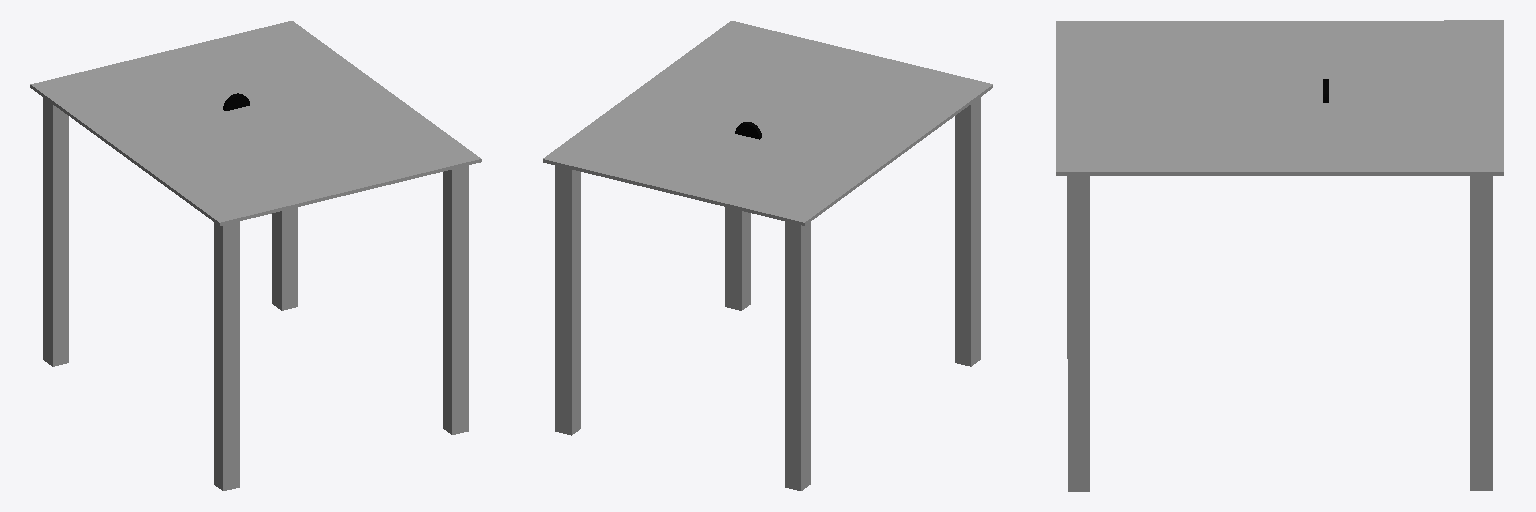
The robot description file, URDF, robot "ur5e":
<?xml version="1.0" encoding="utf-8"?>
<!-- =================================================================================== -->
<!-- |    This document was autogenerated by xacro from gripper_only.urdf.xacro        | -->
<!-- |    EDITING THIS FILE BY HAND IS NOT RECOMMENDED                                 | -->
<!-- =================================================================================== -->
<robot name="ur5e">
  <gazebo>
    <plugin filename="libgazebo_ros_control.so" name="ros_control">
      <!--robotNamespace>/</robotNamespace-->
      <!--robotSimType>gazebo_ros_control/DefaultRobotHWSim</robotSimType-->
    </plugin>
    <!--
    <plugin name="gazebo_ros_power_monitor_controller" filename="libgazebo_ros_power_monitor.so">
      <alwaysOn>true</alwaysOn>
      <updateRate>1.0</updateRate>
      <timeout>5</timeout>
      <powerStateTopic>power_state</powerStateTopic>
      <powerStateRate>10.0</powerStateRate>
      <fullChargeCapacity>87.78</fullChargeCapacity>     
      <dischargeRate>-474</dischargeRate>
      <chargeRate>525</chargeRate>
      <dischargeVoltage>15.52</dischargeVoltage>
      <chargeVoltage>16.41</chargeVoltage>
    </plugin>
-->
  </gazebo>
  <link name="world"/>
  <!-- Adding table to the world -->
  <link name="table">
    <origin rpy="0 0 0" xyz="0.0 0.0 0.0"/>
    <inertial>
      <mass value="5"/>
      <origin xyz="0 0 0"/>
      <inertia ixx="1" ixy="0.0" ixz="0.0" iyy="1" iyz="0.0" izz="1"/>
    </inertial>
    <visual>
      <geometry>
        <mesh filename="package://ur_e_description/meshes/table/visual/table.dae"/>
      </geometry>
    </visual>
    <collision>
      <geometry>
        <mesh filename="package://ur_e_description/meshes/table/collision/table.obj"/>
      </geometry>
    </collision>
  </link>
  <joint name="world_joint" type="fixed">
    <parent link="world"/>
    <child link="table"/>
    <origin rpy="0.0 0.0 -1.57" xyz="0.0 0.0 -0.005"/>
  </joint>
  <!-- fixing robot base link to the table -->
  <link name="tool0"/>
  <joint name="world-tool0_floating_joint" type="floating">
    <origin rpy="-1.57079632679 0 0" xyz="0 0.1 0"/>
    <parent link="world"/>
    <child link="tool0"/>
  </joint>

  <joint name="robotiq_ur_coupler_coupler_joint" type="fixed">
    <!-- total height of coupler, minus the depth of robot end-effector shape and the gripper small depth-->
    <origin rpy="0 0 0" xyz="0 0 0.0075"/>
    <parent link="tool0"/>
    <child link="robotiq_ur_coupler"/>
  </joint>
  <link name="robotiq_ur_coupler">
    <visual>
      <origin rpy="0 0 0" xyz="0 0 -0.005465"/>
      <geometry>
        <!-- only the visible part of the coupler -->
        <cylinder length="0.0139" radius="0.0375"/>
      </geometry>
      <material name="dark_grey">
        <color rgba="0.05 0.05 0.05 1"/>
      </material>
    </visual>
    <collision>
      <origin rpy="0 0 0" xyz="0 0 0"/>
      <geometry>
        <cylinder length="0.0135" radius="0.0375"/>
      </geometry>
    </collision>
    <inertial>
      <mass value="0.3"/>
      <origin xyz="0 0 0.00695"/>
      <inertia ixx="0.110299" ixy="0" ixz="0" iyy="0.110299" iyz="0" izz="0.2109375"/>
    </inertial>
  </link>
  <!-- the ee link of gripper -->
  <joint name="robotiq_ur_coupler_robotiq_2f_85_ee_joint" type="fixed">
    <origin rpy="0 0 0" xyz="0 0 0.1493"/>
    <parent link="robotiq_2f_85_base"/>
    <child link="robotiq_2f_85_ee_link"/>
  </joint>
  <link name="robotiq_2f_85_ee_link"/>
  <!-- base -->
  <joint name="robotiq_ur_coupler_robotiq_2f_85_base_joint" type="fixed">
    <origin rpy="0 0 1.57079632679" xyz="0 0 0"/>
    <parent link="robotiq_ur_coupler"/>
    <child link="robotiq_2f_85_base"/>
  </joint>
  <link name="robotiq_2f_85_base">
    <inertial>
      <mass value="0.5"/>
      <origin xyz="0 0 0.0075"/>
      <inertia ixx="0.284375" ixy="0" ixz="0" iyy="0.284375" iyz="0" izz="0.4"/>
    </inertial>
    <visual>
      <origin rpy="0 -1.5708 0" xyz="0 0 0"/>
      <geometry>
        <mesh filename="package://robotiq_2f_85_gripper_visualization/meshes/visual/base.dae"/>
      </geometry>
    </visual>
    <collision>
      <origin rpy="0 0 0" xyz="0 0 0.015"/>
      <geometry>
        <cylinder length="0.045" radius="0.04"/>
      </geometry>
    </collision>
    <collision>
      <origin rpy="0 0 0" xyz="0 0 0.06"/>
      <geometry>
        <box size="0.03 0.03 0.06"/>
      </geometry>
    </collision>
  </link>
  <!-- right finger -->
  <joint name="robotiq_2f_85_right_driver_joint" type="revolute">
    <origin rpy="0 0 0" xyz="0 0.0306011 0.054904"/>
    <parent link="robotiq_2f_85_base"/>
    <child link="robotiq_2f_85_right_driver"/>
    <axis xyz="1 0 0"/>
    <limit effort="60" lower="0.0" upper="0.872664444444" velocity="1.91986177778"/>
  </joint>
  <link name="robotiq_2f_85_right_driver">
    <inertial>
      <mass value="0.1"/>
      <origin rpy="0 0 0" xyz="0 0.02 0"/>
      <inertia ixx="0.0166666666667" ixy="0" ixz="0" iyy="0.00666666666667" iyz="0" izz="0.0166666666667"/>
    </inertial>
    <visual>
      <geometry>
        <mesh filename="package://robotiq_2f_85_gripper_visualization/meshes/visual/driver.dae" scale="0.001 0.001 0.001"/>
      </geometry>
    </visual>
    <collision>
      <origin rpy="-0.1 0 0" xyz="0 0.01 0"/>
      <geometry>
        <box size="0.002 0.004 0.002"/>
      </geometry>
    </collision>
  </link>
  <joint name="robotiq_2f_85_right_coupler_joint" type="fixed">
    <origin rpy="0 0 0" xyz="0 0.0315 -0.0041"/>
    <parent link="robotiq_2f_85_right_driver"/>
    <child link="robotiq_2f_85_right_coupler"/>
  </joint>
  <link name="robotiq_2f_85_right_coupler">
    <inertial>
      <mass value="0.1"/>
      <origin rpy="-1.7 0 0" xyz="0 0.0 0.025"/>
      <inertia ixx="0.0385416666667" ixy="0" ixz="0" iyy="0.0108333333333" iyz="0" izz="0.0427083333333"/>
    </inertial>
    <visual>
      <geometry>
        <mesh filename="package://robotiq_2f_85_gripper_visualization/meshes/visual/coupler.dae" scale="0.001 0.001 0.001"/>
      </geometry>
    </visual>
    <collision>
      <origin rpy="-1.7 0 0" xyz="0 0.0 0.025"/>
      <geometry>
        <box size="0.03 0.065 0.02"/>
      </geometry>
    </collision>
  </link>
  <joint name="robotiq_2f_85_right_follower_joint" type="revolute">
    <origin rpy="0 0 0" xyz="0 0.0061 0.0471"/>
    <parent link="robotiq_2f_85_right_coupler"/>
    <child link="robotiq_2f_85_right_follower"/>
    <axis xyz="1 0 0"/>
    <limit effort="176" lower="-2.96705911111" upper="2.96705911111" velocity="1.91986177778"/>
    <mimic joint="robotiq_2f_85_right_driver_joint" multiplier="-1"/>
  </joint>
  <link name="robotiq_2f_85_right_follower">
    <inertial>
      <mass value="0.1"/>
      <origin xyz="0 -0.018 0.022"/>
      <inertia ixx="0.021075" ixy="0" ixz="0" iyy="0.0225333333333" iyz="0" izz="0.00520833333333"/>
    </inertial>
    <visual>
      <geometry>
        <mesh filename="package://robotiq_2f_85_gripper_visualization/meshes/visual/follower.dae" scale="0.001 0.001 0.001"/>
      </geometry>
    </visual>
    <collision>
      <origin rpy="0 0 0" xyz="0 -0.01 0.022"/>
      <geometry>
        <box size="0.002 0.0015 0.0048"/>
      </geometry>
    </collision>
  </link>
  <joint name="robotiq_2f_85_right_pad_joint" type="revolute">
    <parent link="robotiq_2f_85_right_follower"/>
    <child link="robotiq_2f_85_right_pad"/>
    <axis xyz="0 0 1"/>
    <limit effort="200" lower="0" upper="0" velocity="0"/>
    <mimic joint="robotiq_2f_85_right_driver_joint" multiplier="0"/>
  </joint>
  <link name="robotiq_2f_85_right_pad">
    <inertial>
      <mass value="0.1"/>
      <origin xyz="0 -0.022 0.031"/>
      <inertia ixx="0.0113333333333" ixy="0" ixz="0" iyy="0.0141333333333" iyz="0" izz="0.00386666666667"/>
    </inertial>
    <visual>
      <geometry>
        <mesh filename="package://robotiq_2f_85_gripper_visualization/meshes/visual/pad.dae" scale="0.001 0.001 0.001"/>
      </geometry>
    </visual>
    <collision>
      <origin rpy="0 0 0" xyz="0 -0.022 0.031"/>
      <geometry>
        <box size="0.02 0.008 0.036"/>
      </geometry>
    </collision>
  </link>
  <joint name="robotiq_2f_85_right_spring_link_joint" type="revolute">
    <origin rpy="0 0 0" xyz="0 0.012 0.0614"/>
    <parent link="robotiq_2f_85_base"/>
    <child link="robotiq_2f_85_right_spring_link"/>
    <axis xyz="1 0 0"/>
    <limit effort="176" lower="-2.96705911111" upper="2.96705911111" velocity="1.91986177778"/>
    <mimic joint="robotiq_2f_85_right_driver_joint" multiplier="1"/>
  </joint>
  <link name="robotiq_2f_85_right_spring_link">
    <inertial>
      <mass value="0.1"/>
      <origin rpy="-0.7068 0 0" xyz="0 0.018 0.018"/>
      <inertia ixx="0.0385416666667" ixy="0" ixz="0" iyy="0.0485416666667" iyz="0" izz="0.0166666666667"/>
    </inertial>
    <visual>
      <geometry>
        <mesh filename="package://robotiq_2f_85_gripper_visualization/meshes/visual/spring_link.dae" scale="0.001 0.001 0.001"/>
      </geometry>
    </visual>
    <collision>
      <origin rpy="-0.7068 0 0" xyz="0 0.025 0.015"/>
      <geometry>
        <box size="0.004 0.002 0.0065"/>
      </geometry>
    </collision>
  </link>
  <!-- left finger -->
  <joint name="robotiq_2f_85_left_driver_joint" type="revolute">
    <origin rpy="0 0 3.141592653589793" xyz="0 -0.0306011 0.054904"/>
    <parent link="robotiq_2f_85_base"/>
    <child link="robotiq_2f_85_left_driver"/>
    <axis xyz="1 0 0"/>
    <limit effort="176" lower="0.0" upper="0.872664444444" velocity="1.91986177778"/>
    <mimic joint="robotiq_2f_85_right_driver_joint" multiplier="1"/>
  </joint>
  <link name="robotiq_2f_85_left_driver">
    <inertial>
      <mass value="0.1"/>
      <origin rpy="0 0 0" xyz="0 0.02 0"/>
      <inertia ixx="0.0166666666667" ixy="0" ixz="0" iyy="0.00666666666667" iyz="0" izz="0.0166666666667"/>
    </inertial>
    <visual>
      <geometry>
        <mesh filename="package://robotiq_2f_85_gripper_visualization/meshes/visual/driver.dae" scale="0.001 0.001 0.001"/>
      </geometry>
    </visual>
    <collision>
      <origin rpy="-0.1 0 0" xyz="0 0.01 0"/>
      <geometry>
        <box size="0.002 0.004 0.002"/>
      </geometry>
    </collision>
  </link>
  <joint name="robotiq_2f_85_left_coupler_joint" type="fixed">
    <origin rpy="0 0 0" xyz="0 0.0315 -0.0041"/>
    <parent link="robotiq_2f_85_left_driver"/>
    <child link="robotiq_2f_85_left_coupler"/>
  </joint>
  <link name="robotiq_2f_85_left_coupler">
    <inertial>
      <mass value="0.1"/>
      <origin rpy="-1.7 0 0" xyz="0 0.0 0.025"/>
      <inertia ixx="0.0385416666667" ixy="0" ixz="0" iyy="0.0108333333333" iyz="0" izz="0.0427083333333"/>
    </inertial>
    <visual>
      <geometry>
        <mesh filename="package://robotiq_2f_85_gripper_visualization/meshes/visual/coupler.dae" scale="0.001 0.001 0.001"/>
      </geometry>
    </visual>
    <collision>
      <origin rpy="-1.7 0 0" xyz="0 0.0 0.025"/>
      <geometry>
        <box size="0.03 0.065 0.02"/>
      </geometry>
    </collision>
  </link>
  <joint name="robotiq_2f_85_left_follower_joint" type="revolute">
    <origin rpy="0 0 0" xyz="0 0.0061 0.0471"/>
    <parent link="robotiq_2f_85_left_coupler"/>
    <child link="robotiq_2f_85_left_follower"/>
    <axis xyz="1 0 0"/>
    <limit effort="176" lower="-2.96705911111" upper="2.96705911111" velocity="1.91986177778"/>
    <mimic joint="robotiq_2f_85_right_driver_joint" multiplier="-1"/>
  </joint>
  <link name="robotiq_2f_85_left_follower">
    <inertial>
      <mass value="0.1"/>
      <origin xyz="0 -0.018 0.022"/>
      <inertia ixx="0.021075" ixy="0" ixz="0" iyy="0.0225333333333" iyz="0" izz="0.00520833333333"/>
    </inertial>
    <visual>
      <geometry>
        <mesh filename="package://robotiq_2f_85_gripper_visualization/meshes/visual/follower.dae" scale="0.001 0.001 0.001"/>
      </geometry>
    </visual>
    <collision>
      <origin rpy="0 0 0" xyz="0 -0.01 0.022"/>
      <geometry>
        <box size="0.002 0.0015 0.0048"/>
      </geometry>
    </collision>
  </link>
  <joint name="robotiq_2f_85_left_pad_joint" type="revolute">
    <parent link="robotiq_2f_85_left_follower"/>
    <child link="robotiq_2f_85_left_pad"/>
    <axis xyz="0 0 1"/>
    <limit effort="200" lower="0" upper="0" velocity="0"/>
    <mimic joint="robotiq_2f_85_right_driver_joint" multiplier="0"/>
  </joint>
  <link name="robotiq_2f_85_left_pad">
    <inertial>
      <mass value="0.1"/>
      <origin xyz="0 -0.022 0.031"/>
      <inertia ixx="0.0113333333333" ixy="0" ixz="0" iyy="0.0141333333333" iyz="0" izz="0.00386666666667"/>
    </inertial>
    <visual>
      <geometry>
        <mesh filename="package://robotiq_2f_85_gripper_visualization/meshes/visual/pad.dae" scale="0.001 0.001 0.001"/>
      </geometry>
    </visual>
    <collision>
      <origin rpy="0 0 0" xyz="0 -0.022 0.031"/>
      <geometry>
        <box size="0.02 0.008 0.036"/>
      </geometry>
    </collision>
  </link>
  <joint name="robotiq_2f_85_left_spring_link_joint" type="revolute">
    <origin rpy="0 0 3.141592653589793" xyz="0 -0.012 0.0614"/>
    <parent link="robotiq_2f_85_base"/>
    <child link="robotiq_2f_85_left_spring_link"/>
    <axis xyz="1 0 0"/>
    <limit effort="176" lower="-2.96705911111" upper="2.96705911111" velocity="1.91986177778"/>
    <mimic joint="robotiq_2f_85_right_driver_joint" multiplier="1"/>
  </joint>
  <link name="robotiq_2f_85_left_spring_link">
    <inertial>
      <mass value="0.1"/>
      <origin rpy="-0.7068 0 0" xyz="0 0.018 0.018"/>
      <inertia ixx="0.0385416666667" ixy="0" ixz="0" iyy="0.0485416666667" iyz="0" izz="0.0166666666667"/>
    </inertial>
    <visual>
      <geometry>
        <mesh filename="package://robotiq_2f_85_gripper_visualization/meshes/visual/spring_link.dae" scale="0.001 0.001 0.001"/>
      </geometry>
    </visual>
    <collision>
      <origin rpy="-0.7068 0 0" xyz="0 0.025 0.015"/>
      <geometry>
        <box size="0.004 0.002 0.0065"/>
      </geometry>
    </collision>
  </link>
  <gazebo reference="robotiq_2f_85_right_pad">
    <kp>1000000.0</kp>
    <kd>1.0</kd>
    <mu1>100.0</mu1>
    <mu2>100.0</mu2>
    <minDepth>0.003</minDepth>
  </gazebo>
  <gazebo reference="robotiq_2f_85_left_pad">
    <kp>1000000.0</kp>
    <kd>1.0</kd>
    <mu1>100.0</mu1>
    <mu2>100.0</mu2>
    <minDepth>0.003</minDepth>
  </gazebo>
  <gazebo>
    <gripper name="grasping">
      <grasp_check>
        <attach_steps>1</attach_steps>
        <detach_steps>1</detach_steps>
        <min_contact_count>1</min_contact_count>
      </grasp_check>
      <gripper_link>robotiq_2f_85_left_pad</gripper_link>
      <palm_link>robotiq_2f_85_right_pad</palm_link>
    </gripper>
  </gazebo>
  <gazebo reference="robotiq_2f_85_right_driver_joint">
    <implicitSpringDamper>1</implicitSpringDamper>
  </gazebo>
  <gazebo reference="robotiq_2f_85_right_coupler_joint">
    <implicitSpringDamper>1</implicitSpringDamper>
  </gazebo>
  <gazebo reference="robotiq_2f_85_right_follower_joint">
    <implicitSpringDamper>1</implicitSpringDamper>
  </gazebo>
  <gazebo reference="robotiq_2f_85_right_pad_joint">
    <implicitSpringDamper>1</implicitSpringDamper>
  </gazebo>
  <gazebo reference="robotiq_2f_85_right_spring_link_joint">
    <implicitSpringDamper>1</implicitSpringDamper>
  </gazebo>
  <gazebo reference="robotiq_2f_85_left_driver_joint">
    <implicitSpringDamper>1</implicitSpringDamper>
  </gazebo>
  <gazebo reference="robotiq_2f_85_left_coupler_joint">
    <implicitSpringDamper>1</implicitSpringDamper>
  </gazebo>
  <gazebo reference="robotiq_2f_85_left_follower_joint">
    <implicitSpringDamper>1</implicitSpringDamper>
  </gazebo>
  <gazebo reference="robotiq_2f_85_left_pad_joint">
    <implicitSpringDamper>1</implicitSpringDamper>
  </gazebo>
  <gazebo reference="robotiq_2f_85_left_spring_link_joint">
    <implicitSpringDamper>1</implicitSpringDamper>
  </gazebo>
  <transmission name="robotiq_2f_85_right_driver_trans">
    <type>transmission_interface/SimpleTransmission</type>
    <joint name="robotiq_2f_85_right_driver_joint">
      <hardwareInterface>hardware_interface/PositionJointInterface</hardwareInterface>
    </joint>
    <actuator name="robotiq_2f_85_right_driver_motor">
      <hardwareInterface>hardware_interface/PositionJointInterface</hardwareInterface>
      <mechanicalReduction>1</mechanicalReduction>
    </actuator>
  </transmission>
  <gazebo>
    <plugin filename="libroboticsgroup_gazebo_mimic_joint_plugin.so" name="robotiq_2f_85_right_follower_joint_plugin">
      <joint>robotiq_2f_85_right_driver_joint</joint>
      <mimicJoint>robotiq_2f_85_right_follower_joint</mimicJoint>
      <multiplier>-1</multiplier>
    </plugin>
    <plugin filename="libroboticsgroup_gazebo_mimic_joint_plugin.so" name="robotiq_2f_85_right_spring_link_joint_plugin">
      <joint>robotiq_2f_85_right_driver_joint</joint>
      <mimicJoint>robotiq_2f_85_right_spring_link_joint</mimicJoint>
      <multiplier>1</multiplier>
    </plugin>
    <plugin filename="libroboticsgroup_gazebo_mimic_joint_plugin.so" name="robotiq_2f_85_left_follower_joint_plugin">
      <joint>robotiq_2f_85_right_driver_joint</joint>
      <mimicJoint>robotiq_2f_85_left_follower_joint</mimicJoint>
      <multiplier>-1</multiplier>
    </plugin>
    <plugin filename="libroboticsgroup_gazebo_mimic_joint_plugin.so" name="robotiq_2f_85_left_spring_link_joint_plugin">
      <joint>robotiq_2f_85_right_driver_joint</joint>
      <mimicJoint>robotiq_2f_85_left_spring_link_joint</mimicJoint>
      <multiplier>1</multiplier>
    </plugin>
    <plugin filename="libroboticsgroup_gazebo_mimic_joint_plugin.so" name="robotiq_2f_85_left_driver_joint_plugin">
      <joint>robotiq_2f_85_right_driver_joint</joint>
      <mimicJoint>robotiq_2f_85_left_driver_joint</mimicJoint>
      <multiplier>1</multiplier>
    </plugin>
    <plugin filename="libroboticsgroup_gazebo_mimic_joint_plugin.so" name="robotiq_2f_85_right_pad_joint_plugin">
      <joint>robotiq_2f_85_right_pad_joint</joint>
      <mimicJoint>robotiq_2f_85_right_follower_joint</mimicJoint>
      <multiplier>0</multiplier>
    </plugin>
    <plugin filename="libroboticsgroup_gazebo_mimic_joint_plugin.so" name="robotiq_2f_85_left_pad_joint_plugin">
      <joint>robotiq_2f_85_left_pad_joint</joint>
      <mimicJoint>robotiq_2f_85_right_follower_joint</mimicJoint>
      <multiplier>0</multiplier>
    </plugin>
  </gazebo>
</robot>

--- Facts derived from the render (not from the file) ---
3 views of the same robot in one strip: view 1: azimuth 30°, elevation 25°; view 2: azimuth 150°, elevation 25°; view 3: azimuth 270°, elevation 25° (orthographic).
Model ur5e with 16 links and 15 joints (8 revolute, 6 fixed, 1 floating), rooted at world, posed all joints at 0.
Visible links, largest first — view 1: table; view 2: table; view 3: table.
Link boxes in pixels (<box>): table: <box>30,21,481,490</box>; table: <box>543,21,992,490</box>; table: <box>1056,20,1503,491</box>.
Bounding box of the posed robot: 0.8008 × 1 × 0.8375 m (x, y, z).
1 mesh visuals loaded from 7 distinct referenced files (1 Collada DAE); not drawn: 11 (reference not matched to a file when rendering).